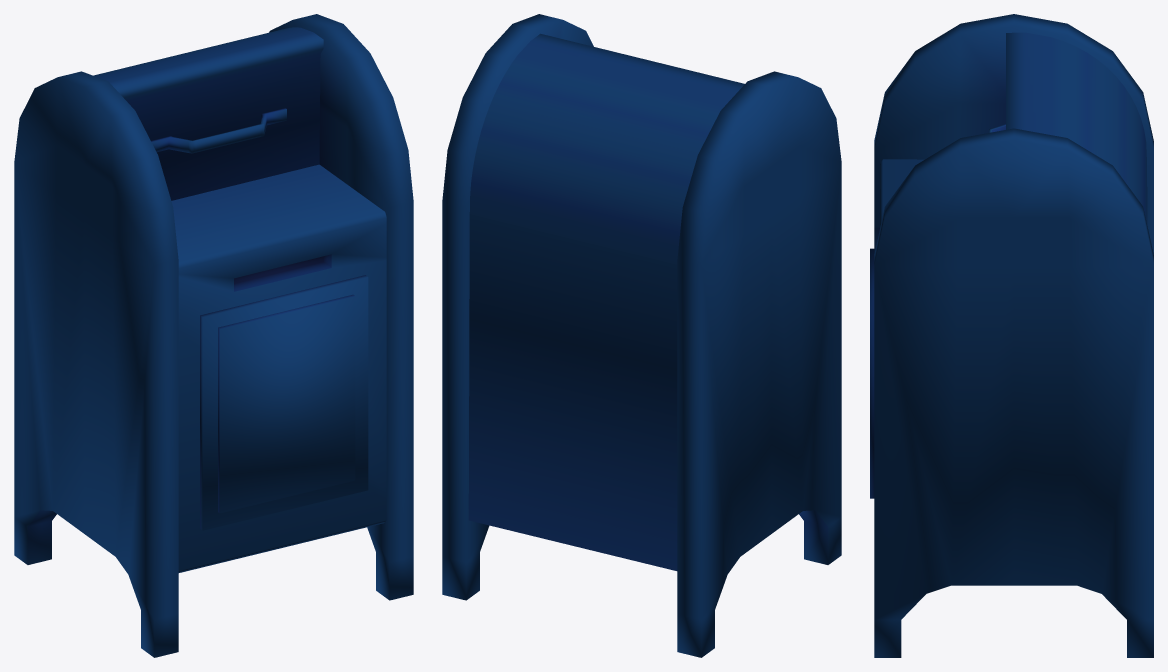
The model's file is furnishings-outdoor-mailbox_v1.glb.
The picture shows the model from 3 angles, left to right: view 1: azimuth 30°, elevation 25°; view 2: azimuth 150°, elevation 25°; view 3: azimuth 270°, elevation 25°; orthographic projection.
Parts seen in each view (by area): view 1: Mailbox.001; view 2: Mailbox.001; view 3: Mailbox.001.
Part boxes in pixels (left/top/right/bottom): Mailbox.001: left=14, top=14, right=413, bottom=657; Mailbox.001: left=442, top=14, right=841, bottom=657; Mailbox.001: left=870, top=14, right=1153, bottom=657.
Bounding box in the file's own units: 0.5324 × 1.02 × 0.506.
